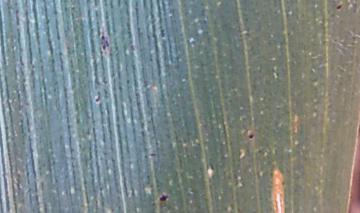tarspot: (99, 34, 110, 51), (158, 192, 169, 203), (94, 90, 102, 104), (208, 160, 215, 172), (148, 151, 157, 159), (335, 3, 343, 11), (247, 132, 254, 141)
